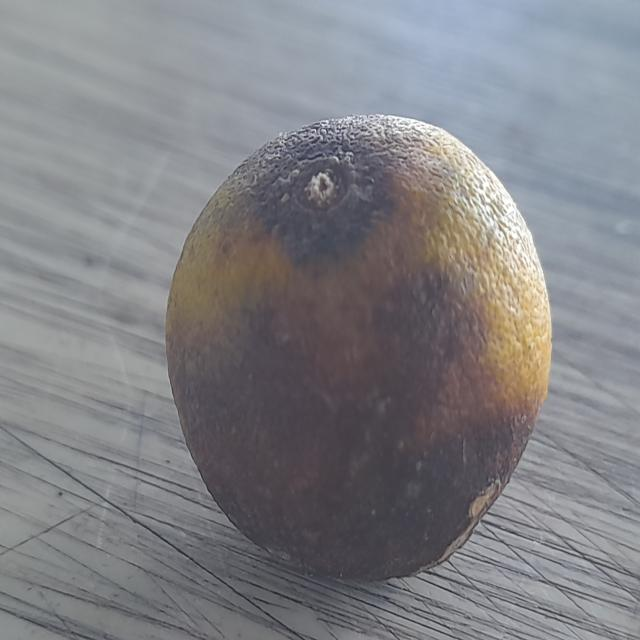black spot: (129, 89, 577, 618)
